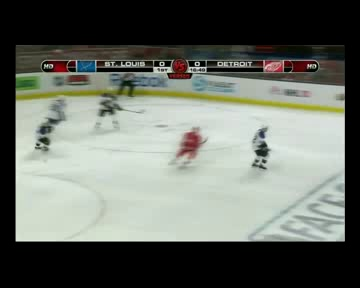normal: (164, 121, 220, 180), (243, 110, 283, 179)
